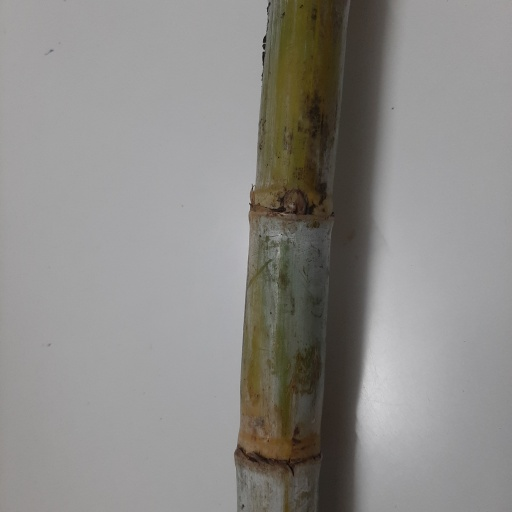Bud: (281, 190, 308, 216)
